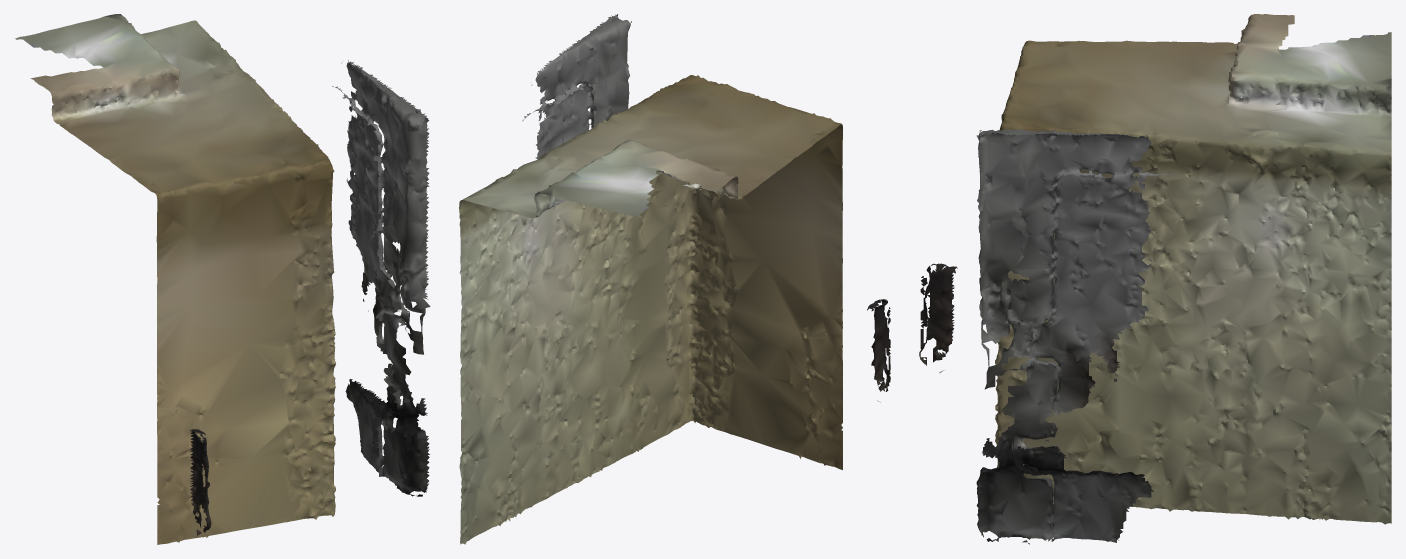
File: medium.glb
The picture shows the model from 3 angles, left to right: view 1: azimuth 30°, elevation 25°; view 2: azimuth 150°, elevation 25°; view 3: azimuth 270°, elevation 25°; orthographic projection. The views are drawn at different scales.
Size of the model in its own units: 0.8859 by 1.29 by 1.34.
